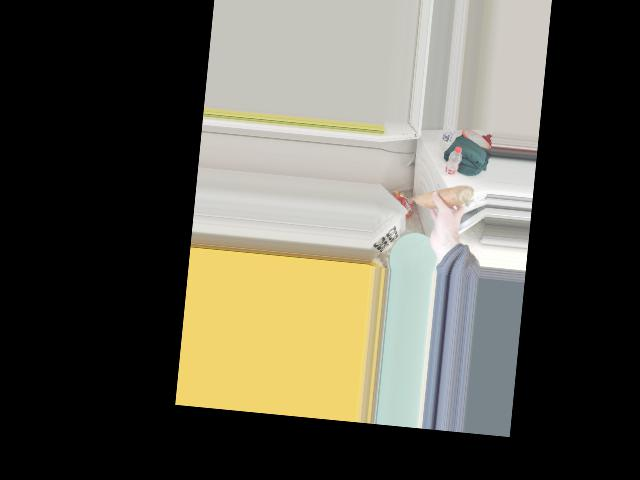sweet_potato: (408, 184, 473, 208)
